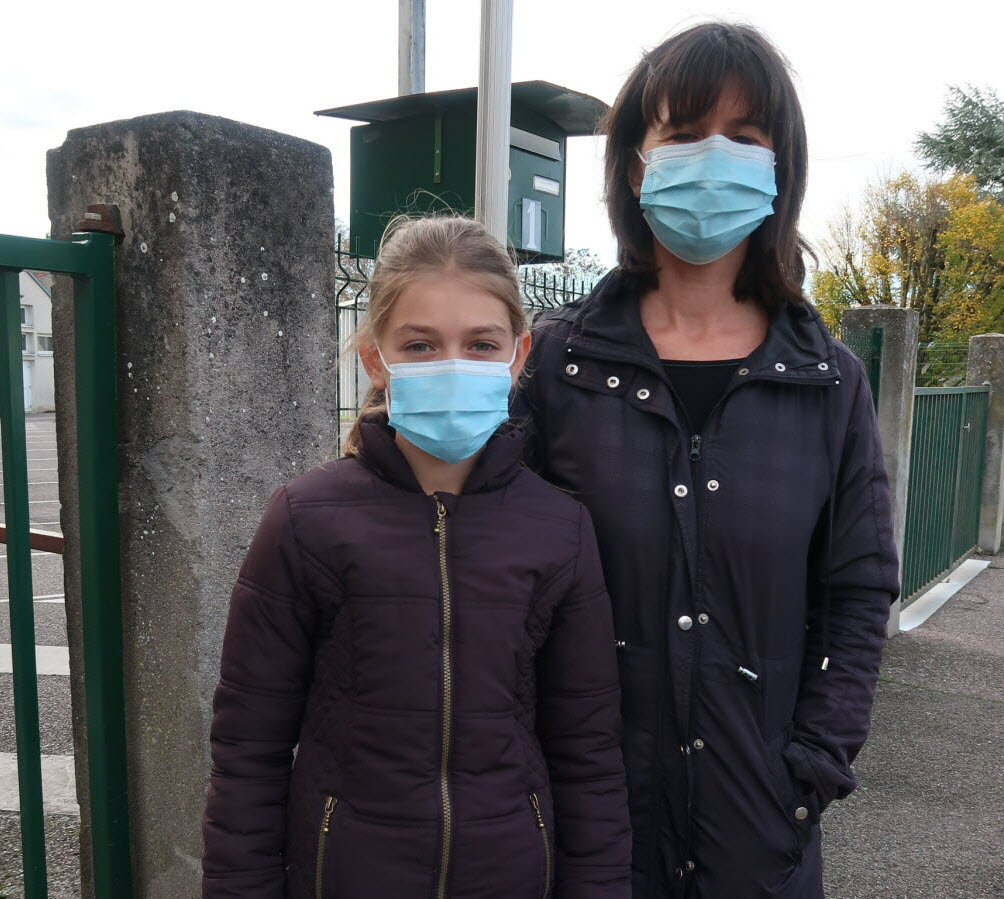with_mask: (354, 229, 533, 464), (618, 78, 785, 289)
